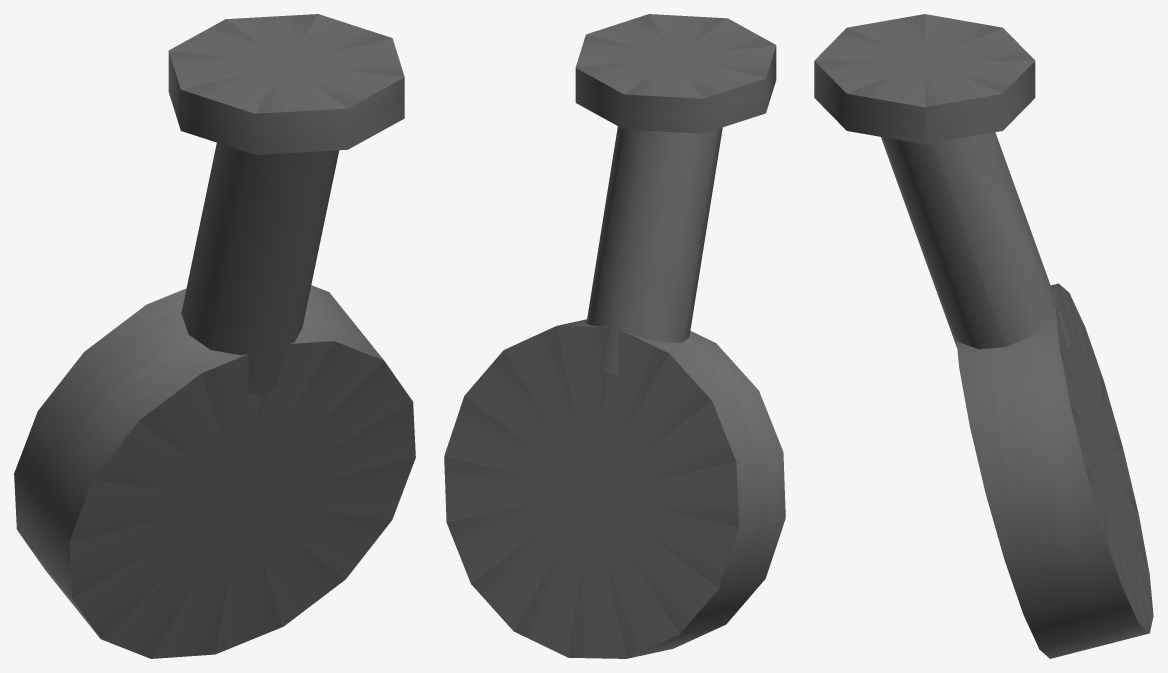
File: mastarmcurve_4x1_c2_up.obj
3 renders of one model, left to right at view 1: azimuth 30°, elevation 25°; view 2: azimuth 150°, elevation 25°; view 3: azimuth 270°, elevation 25°, orthographic. The views are drawn at different scales.
Visible parts, largest first — view 1: mastarm_4x1_c2_up; view 2: mastarm_4x1_c2_up; view 3: mastarm_4x1_c2_up.
Boxes of the visible parts, x1,y1,x2,y2 form: mastarm_4x1_c2_up: [14, 14, 415, 658]; mastarm_4x1_c2_up: [444, 14, 785, 658]; mastarm_4x1_c2_up: [814, 14, 1153, 658].
Bounding box in the file's own units: 0.655 × 1.16 × 0.6141.
